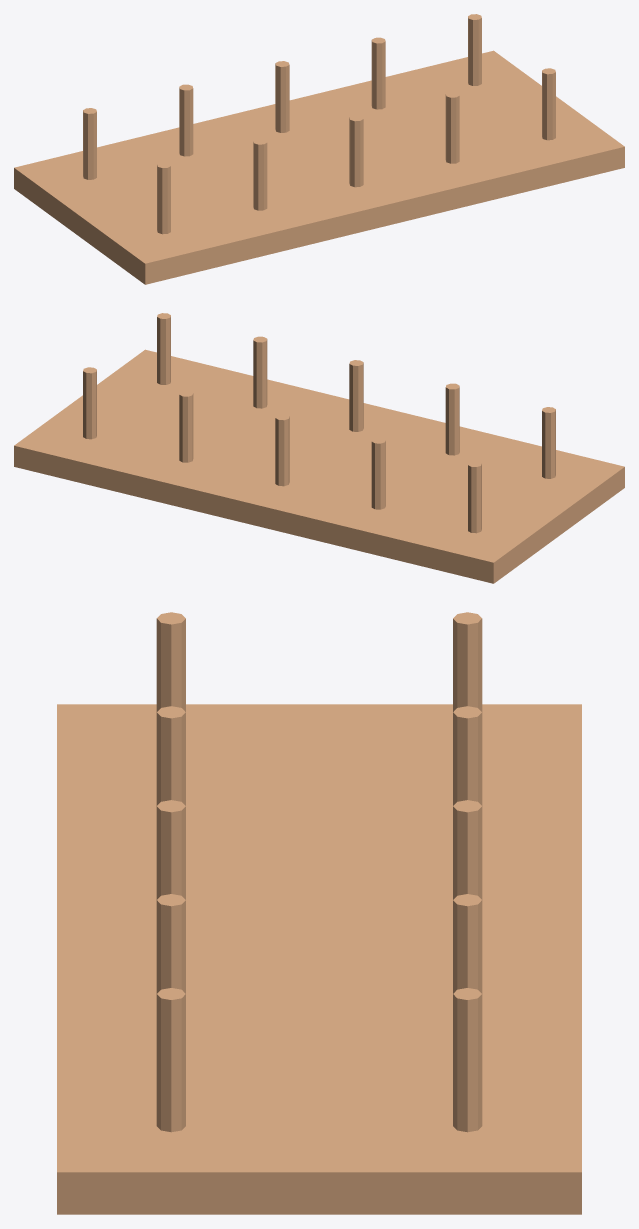
File: manhattan-tile.glb
3 renders of one model, top to bottom at view 1: azimuth 30°, elevation 25°; view 2: azimuth 150°, elevation 25°; view 3: azimuth 270°, elevation 25°, orthographic. The views are drawn at different scales.
Visible parts, largest first — view 1: manhattan-tile_body, manhattan-tile; view 2: manhattan-tile_body, manhattan-tile; view 3: manhattan-tile_body, manhattan-tile.
Part boxes in pixels (box(x1,y1,x2,y2)): manhattan-tile_body: box(14, 50, 624, 284); manhattan-tile: box(83, 14, 555, 234); manhattan-tile_body: box(14, 349, 624, 583); manhattan-tile: box(83, 313, 555, 533); manhattan-tile_body: box(57, 704, 581, 1214); manhattan-tile: box(156, 612, 482, 1132).
Bounding box in the file's own units: 0.038 × 0.0066 × 0.018.
